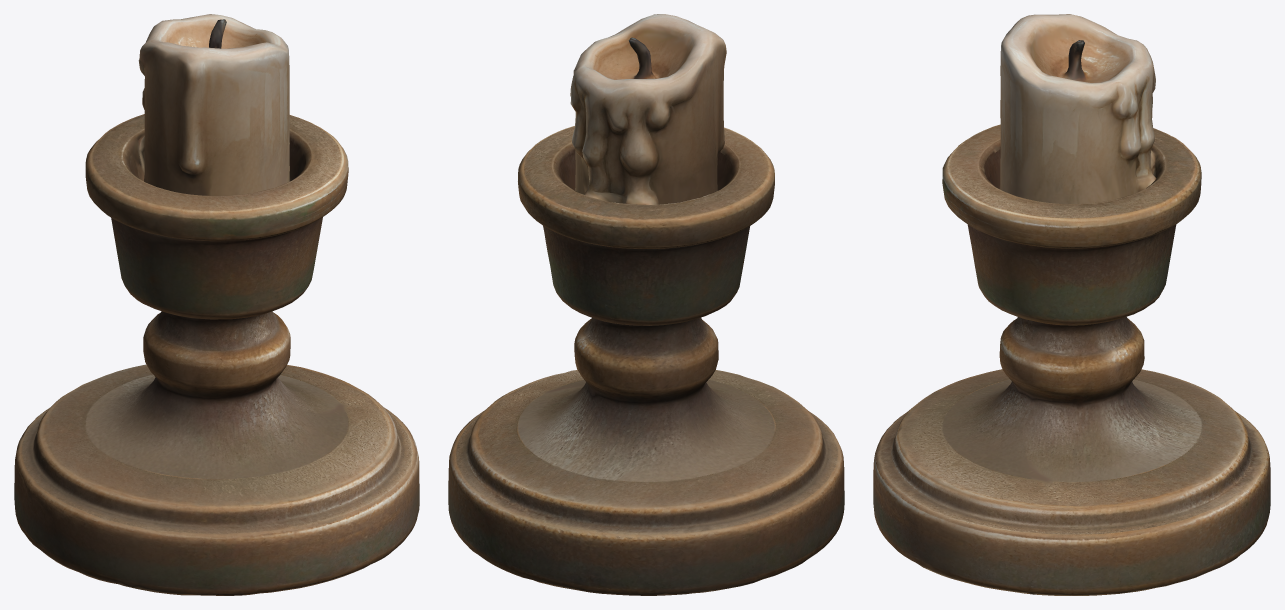
The model's file is Prop_Candlestick.fbx.
The picture shows the model from 3 angles, left to right: view 1: azimuth 30°, elevation 25°; view 2: azimuth 150°, elevation 25°; view 3: azimuth 270°, elevation 25°; orthographic projection. The views are drawn at different scales.
Parts seen in each view (by area): view 1: texture_mapping; view 2: texture_mapping; view 3: texture_mapping.
Part boxes in pixels (x1=…): texture_mapping: x1=14, y1=14, x2=419, y2=595; texture_mapping: x1=448, y1=14, x2=844, y2=595; texture_mapping: x1=873, y1=14, x2=1270, y2=595.
Size of the model in its own units: 0.7524 by 0.7524 by 1.
Materials: 1 (1 with a texture image).
